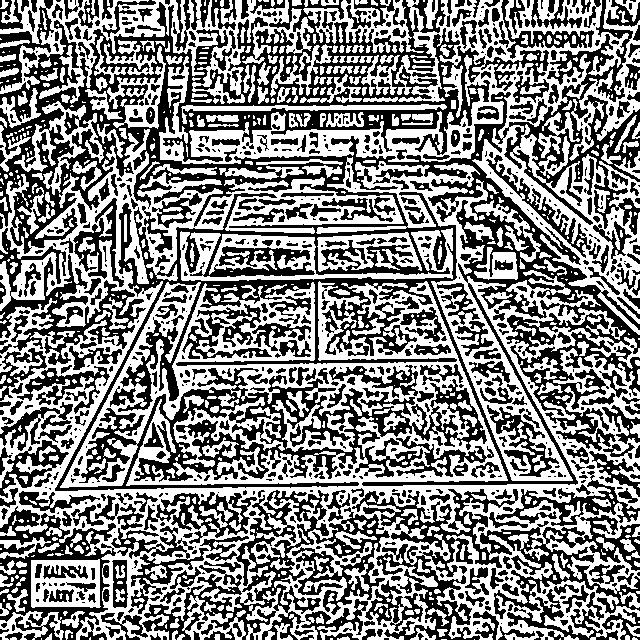left side: (57, 195, 237, 489), (394, 194, 576, 482)
player: (146, 336, 185, 464), (343, 133, 357, 190)
